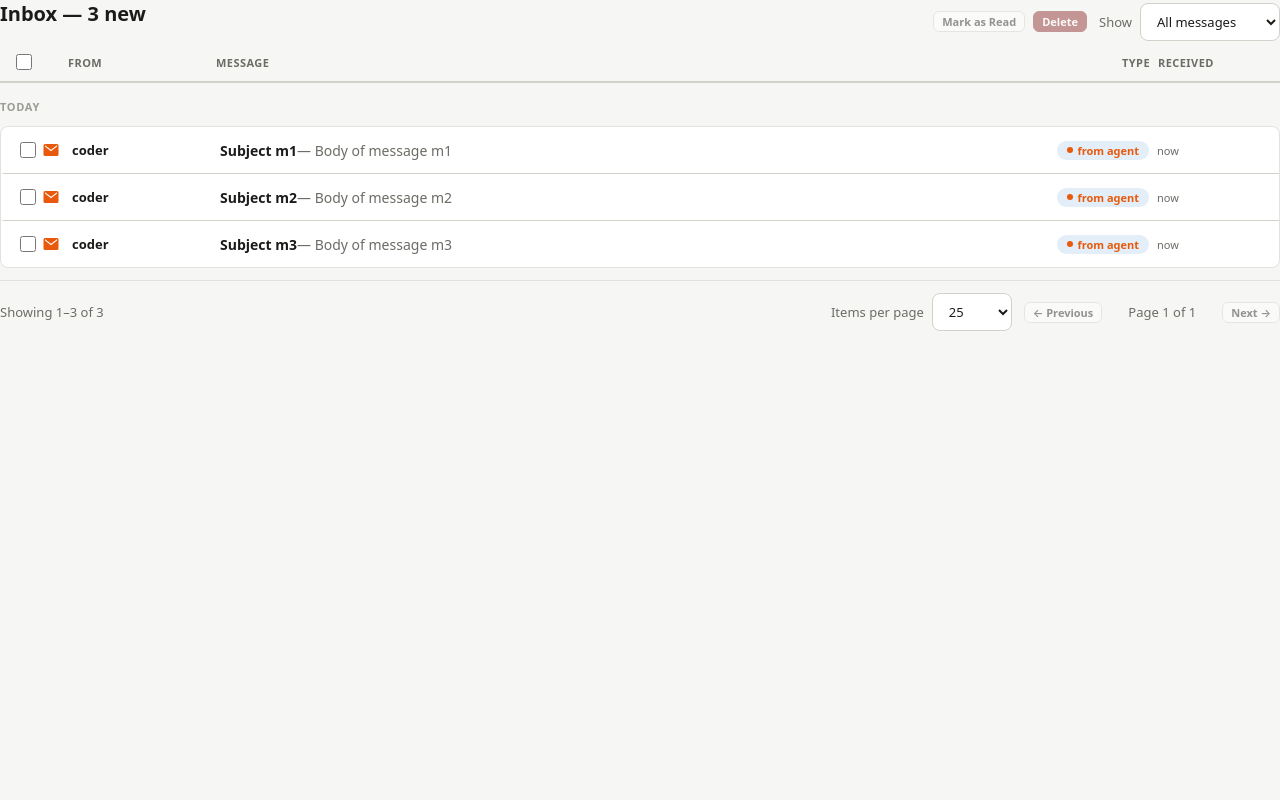
bulk actions › bulk delete removes every selected message after confirmation
This screenshot has width=1280, height=800.
Click the checkbox named "Select all visible messages": (24,62) [16,54,32,70]
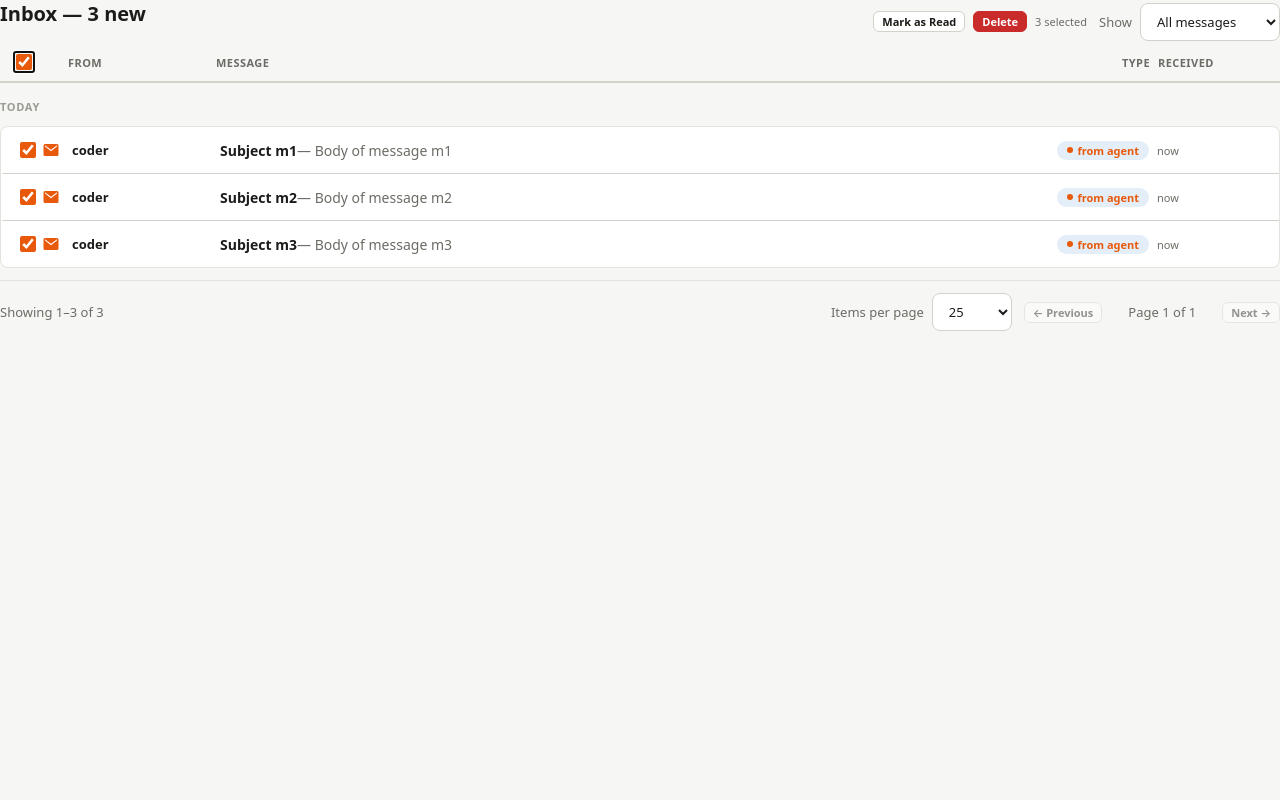
Expected: the text "3 selected" is shown, [1035,14,1087,29]
Click the button with aria-label "Delete 3 selected messages": (1000,22) [973,11,1027,32]
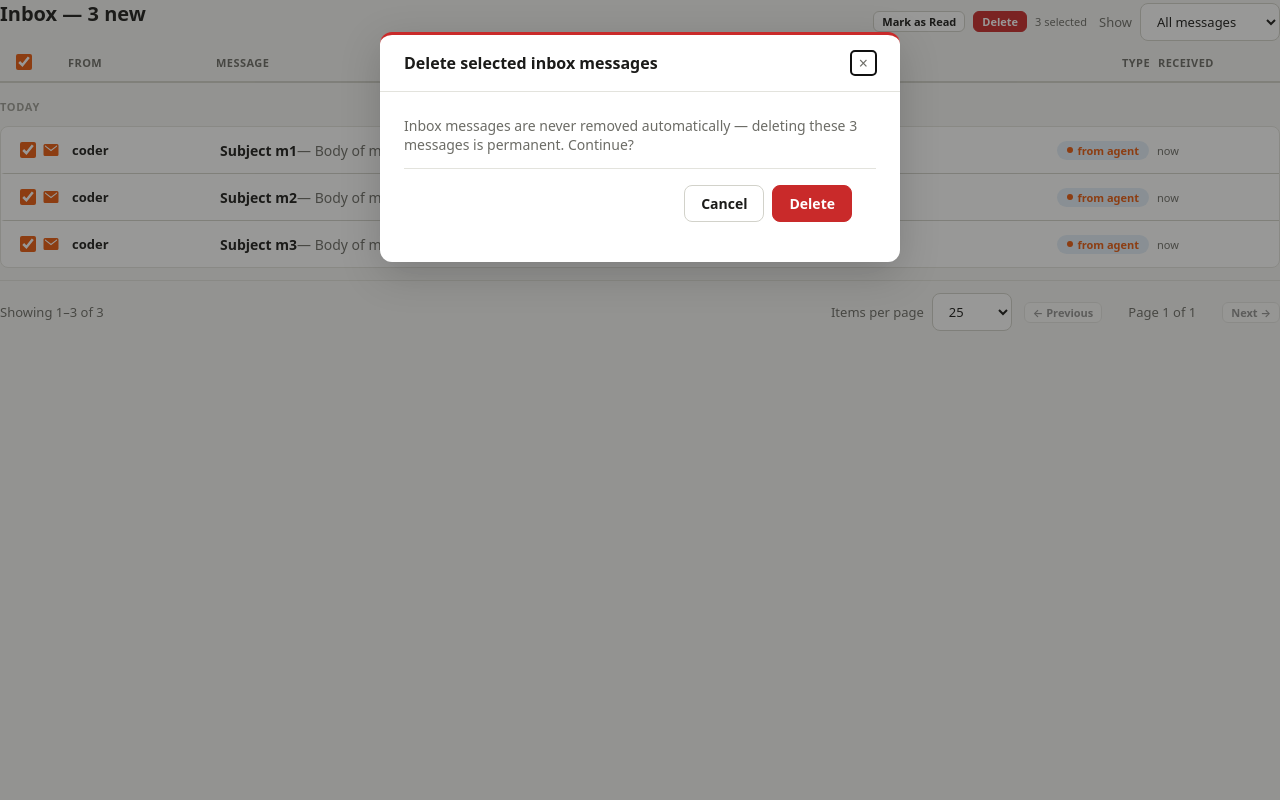
Expected: the text "deleting these 3 messages is permanent" is shown, [404,116,857,154]
Click the button "Delete": (812,204) [772,185,852,222]
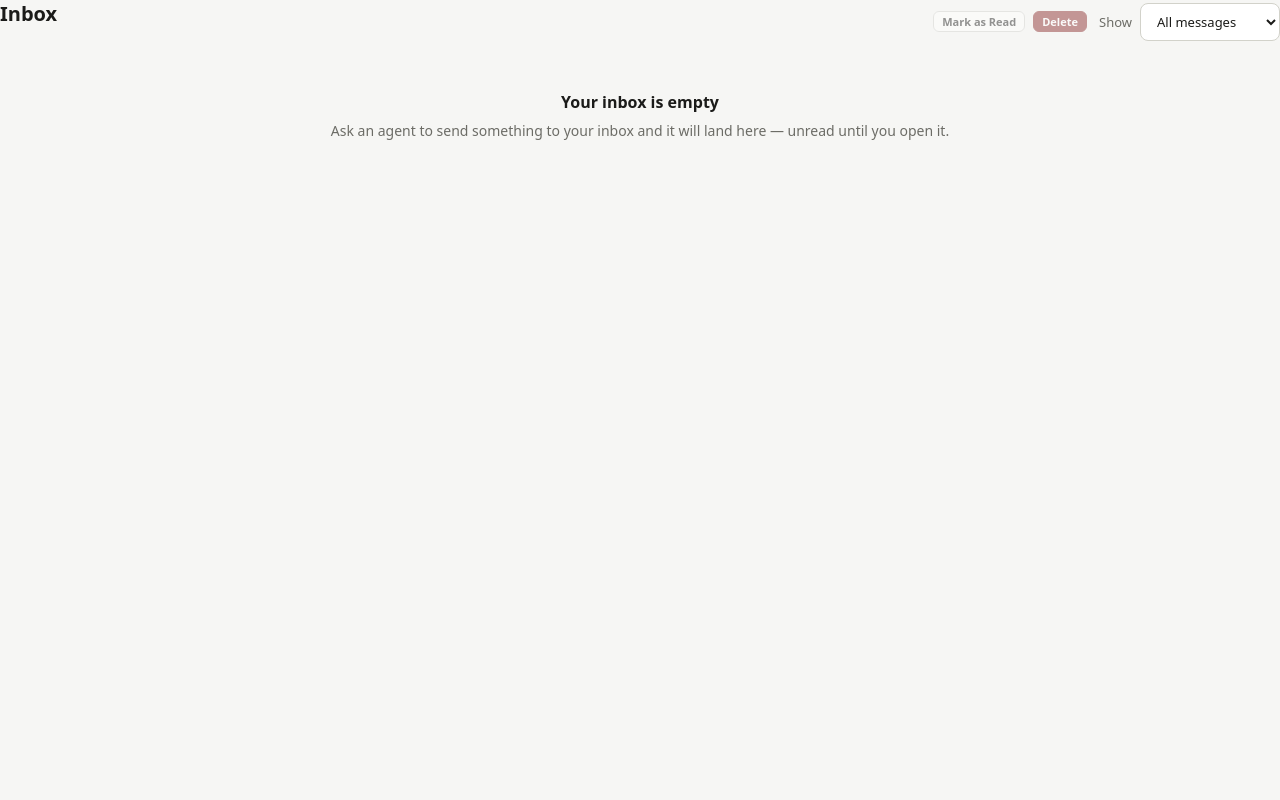
Expected: the text "Your inbox is empty" is shown, [561,91,719,113]
